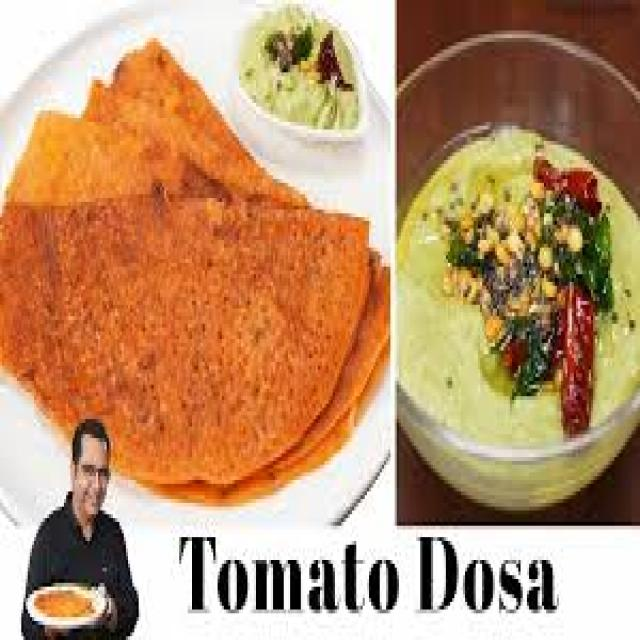DOSA: (0, 179, 367, 484), (6, 110, 305, 202)
